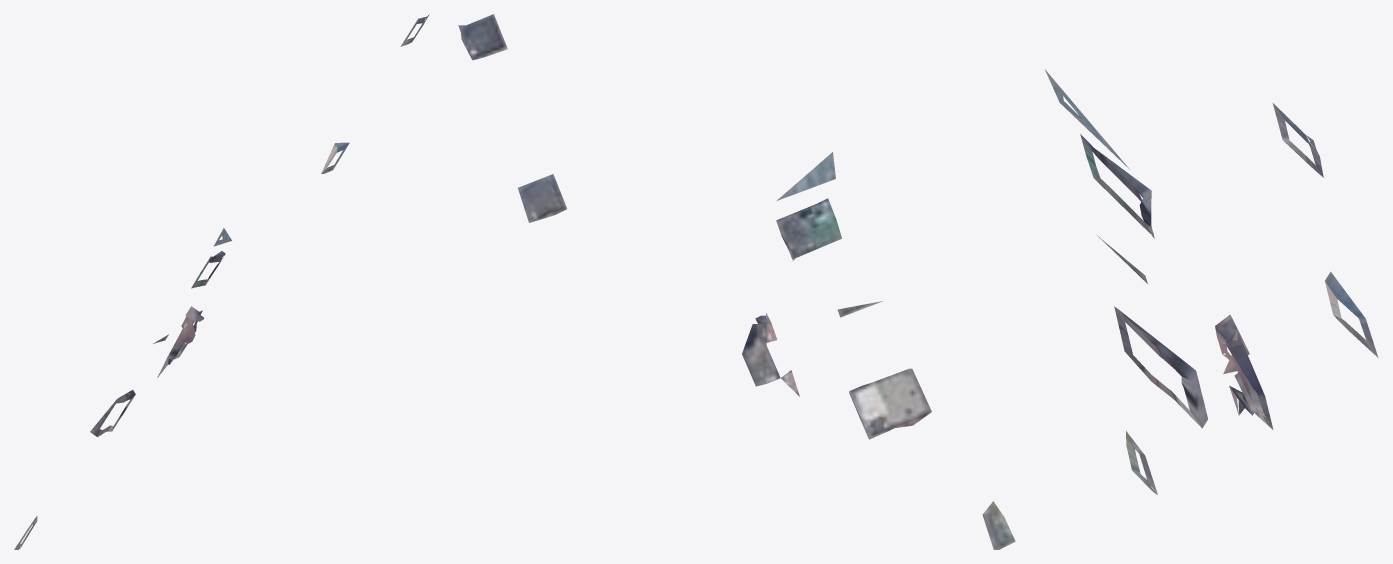
3 views of the same model, side by side, from view 1: azimuth 30°, elevation 25°; view 2: azimuth 150°, elevation 25°; view 3: azimuth 270°, elevation 25° (orthographic). The views are drawn at different scales.
Bounding box in the file's own units: 132 × 111 × 41.44.
1 material, 1 textured.
